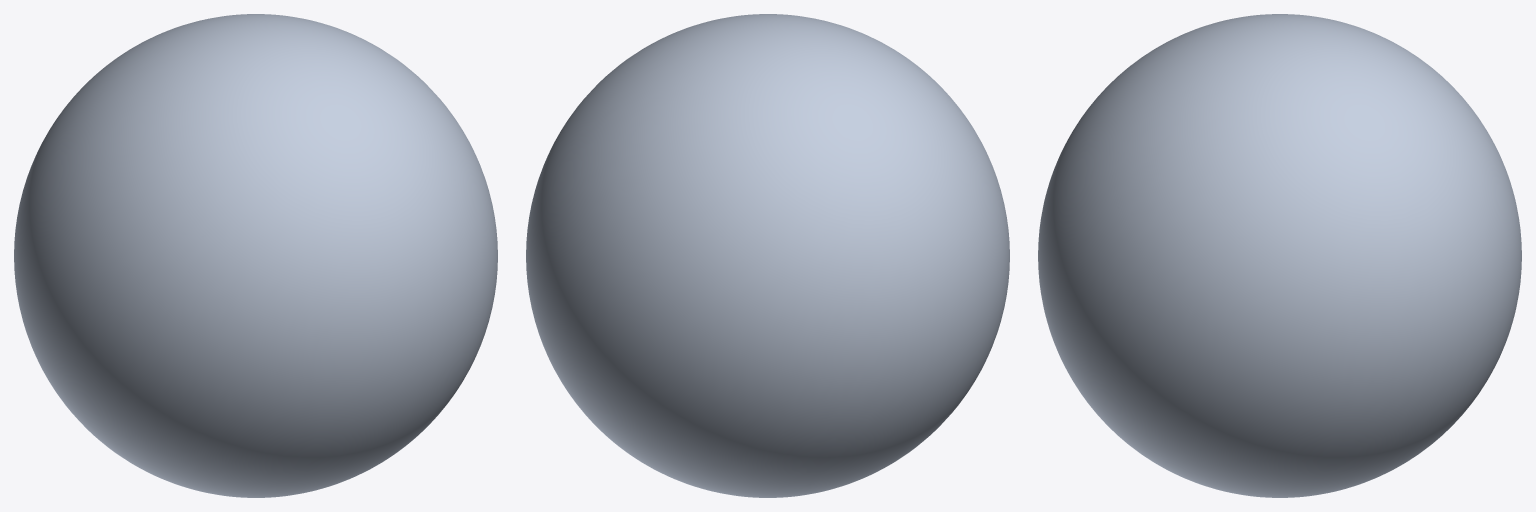
3 renders of one model, left to right at view 1: azimuth 30°, elevation 25°; view 2: azimuth 150°, elevation 25°; view 3: azimuth 270°, elevation 25°, orthographic.
Parts seen in each view (by area): view 1: tesselation.3dm; view 2: tesselation.3dm; view 3: tesselation.3dm.
Part boxes in pixels (x1,y1,x2,y2): tesselation.3dm: (14,14,497,497); tesselation.3dm: (526,14,1009,497); tesselation.3dm: (1038,14,1521,497).
Size of the model in its own units: 2.31 by 2.31 by 2.31.
